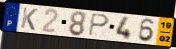2: (40, 8, 60, 34)
4: (114, 16, 134, 41)
6: (137, 18, 156, 43)
8: (68, 10, 87, 37)
K: (20, 7, 39, 32)
P: (88, 12, 111, 37)
